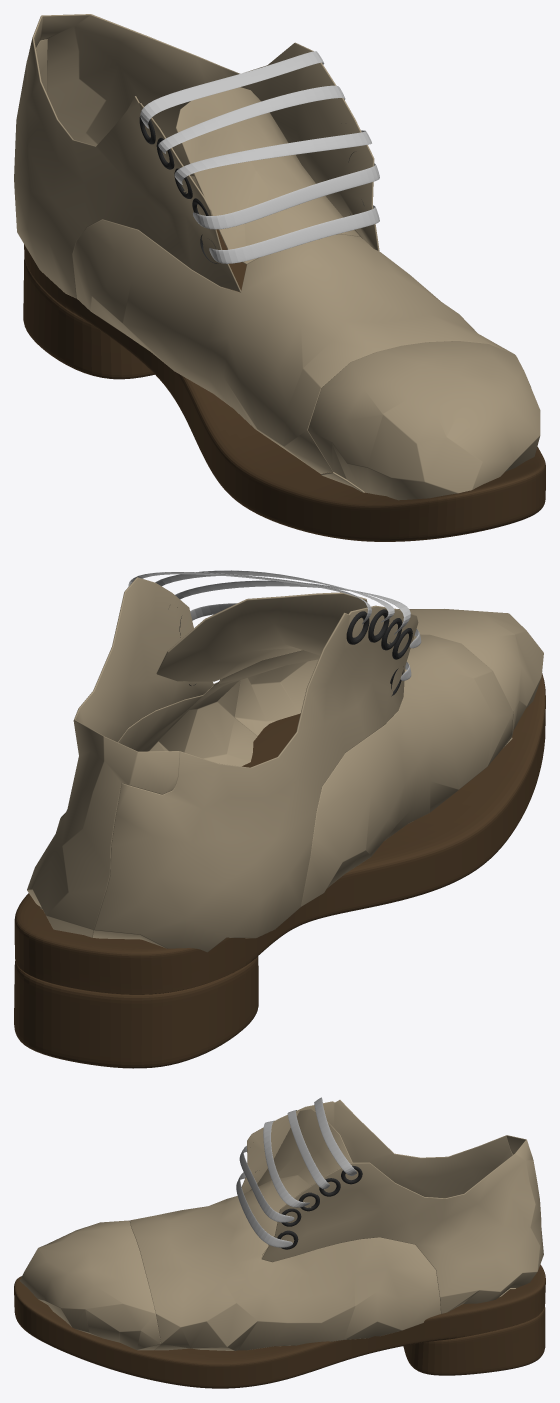
File: za1pri1izquierda.fbx
The picture shows the model from 3 angles, top to bottom: view 1: azimuth 30°, elevation 25°; view 2: azimuth 150°, elevation 25°; view 3: azimuth 270°, elevation 25°; orthographic projection. The views are drawn at different scales.
Parts seen in each view (by area): view 1: ZAPATO1_3, Plane, Plane.002, Plane.004, Plane.005, Plane.001, Plane.003; view 2: ZAPATO1_3, Plane, Plane.001, Plane.003, Plane.004; view 3: ZAPATO1_3, Plane, Plane.001, Plane.004, Plane.003, Plane.005, Plane.002.
Part boxes in pixels (x1,y1,x2,y2): ZAPATO1_3: (14,14,540,500); Plane: (23,229,545,541); Plane.002: (193,163,379,229); Plane.004: (140,51,324,128); Plane.005: (209,205,379,263); Plane.001: (174,130,371,184); Plane.003: (158,85,345,153); ZAPATO1_3: (27,577,543,952); Plane: (14,673,545,1068); Plane.001: (175,580,410,634); Plane.003: (155,570,394,622); Plane.004: (128,572,371,624); ZAPATO1_3: (20,1100,543,1350); Plane: (14,1264,545,1388); Plane.001: (263,1120,309,1207); Plane.004: (314,1097,356,1175); Plane.003: (287,1110,329,1189); Plane.005: (236,1172,292,1247); Plane.002: (239,1145,294,1222).
Bounding box in the file's own units: 174 × 204 × 447.
